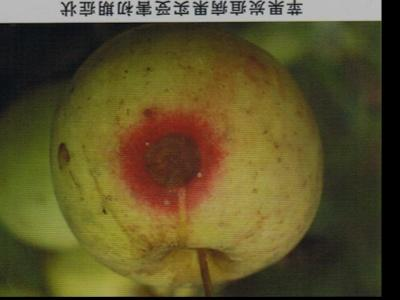rotten apple: (46, 28, 325, 287)
